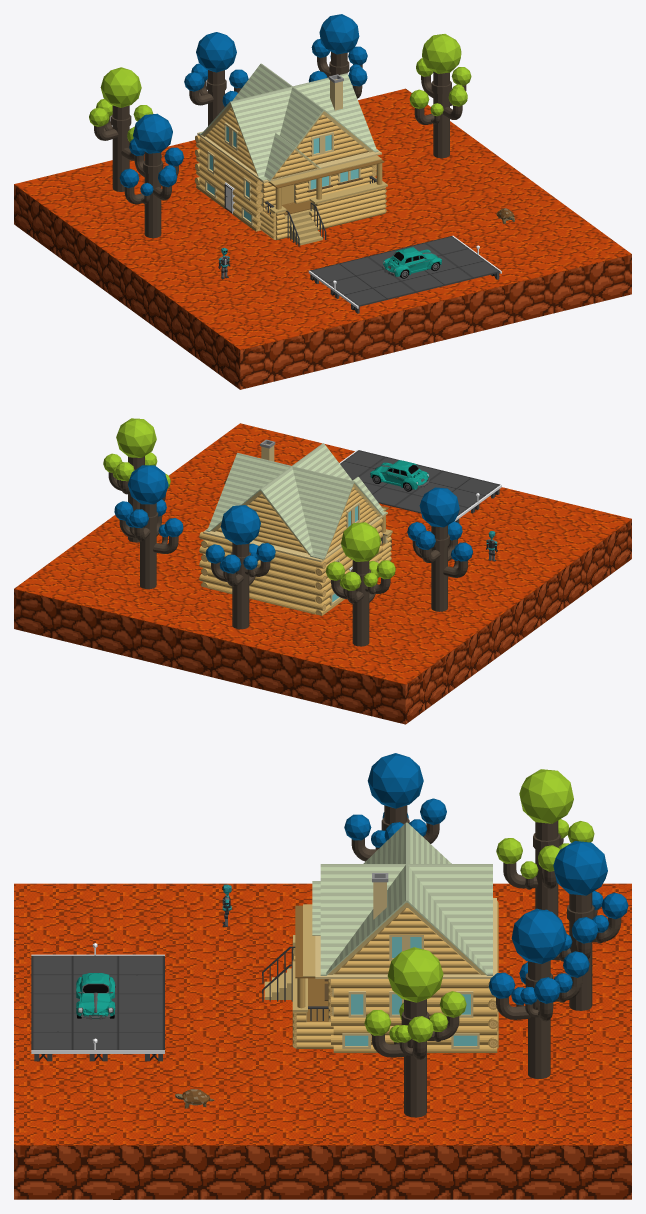
3 renders of one model, top to bottom at view 1: azimuth 30°, elevation 25°; view 2: azimuth 150°, elevation 25°; view 3: azimuth 270°, elevation 25°, orthographic. The views are drawn at different scales.
Parts seen in each view (by area): view 1: Cube.001, Cube.1516, VEHICLES_VOLKSWAGEN; view 2: Cube.001, Cube.1516, VEHICLES_VOLKSWAGEN; view 3: Cube.001, Cube.1516, VEHICLES_VOLKSWAGEN.
Part boxes in pixels (<box>): Cube.001: <box>14,14,631,389</box>; Cube.1516: <box>195,63,387,246</box>; VEHICLES_VOLKSWAGEN: <box>382,247,442,278</box>; Cube.001: <box>14,418,631,724</box>; Cube.1516: <box>199,439,392,615</box>; VEHICLES_VOLKSWAGEN: <box>370,460,429,491</box>; Cube.001: <box>14,753,631,1199</box>; Cube.1516: <box>262,822,498,1052</box>; VEHICLES_VOLKSWAGEN: <box>76,973,115,1019</box>.
Size of the model in its own units: 4000 by 1637 by 4000.
39 materials, 5 textured.
